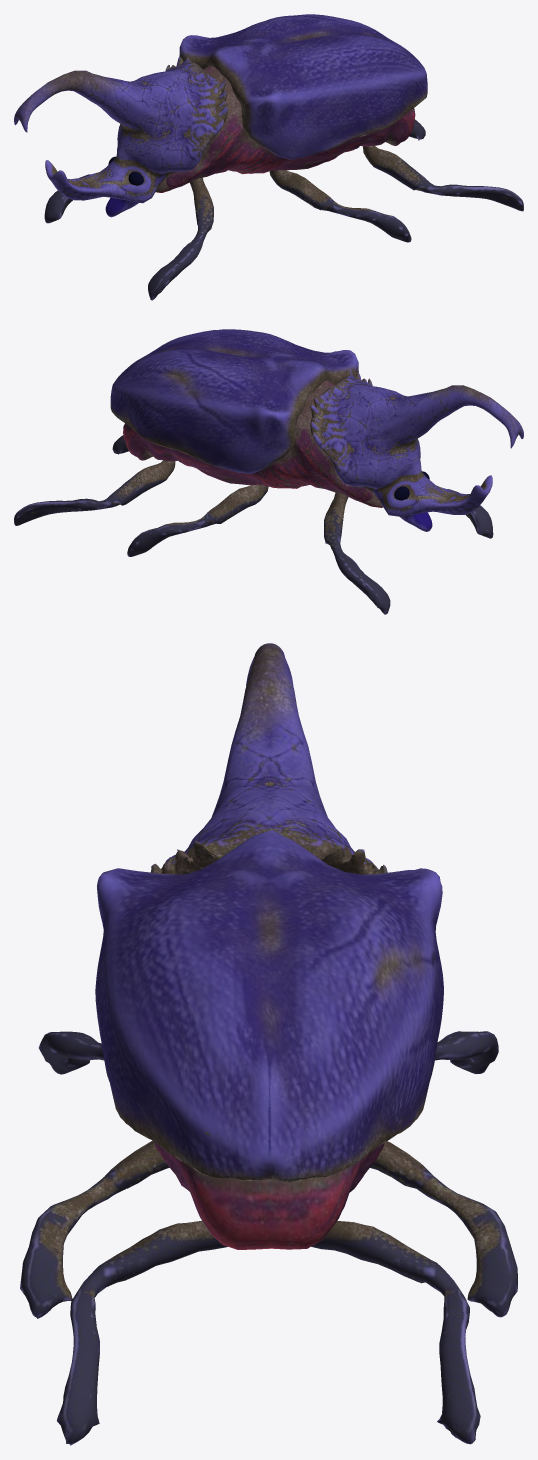
The model's file is beetle.gltf.
3 renders of one model, top to bottom at view 1: azimuth 30°, elevation 25°; view 2: azimuth 150°, elevation 25°; view 3: azimuth 270°, elevation 25°, orthographic. The views are drawn at different scales.
Visible parts, largest first — view 1: Merged_Legs_Remesh3; view 2: Merged_Legs_Remesh3; view 3: Merged_Legs_Remesh3.
Part boxes in pixels (x1=…): Merged_Legs_Remesh3: x1=14, y1=14, x2=523, y2=300; Merged_Legs_Remesh3: x1=14, y1=329, x2=523, y2=614; Merged_Legs_Remesh3: x1=20, y1=643, x2=517, y2=1445.
Bounding box in the file's own units: 9.57 × 4.02 × 4.53.
